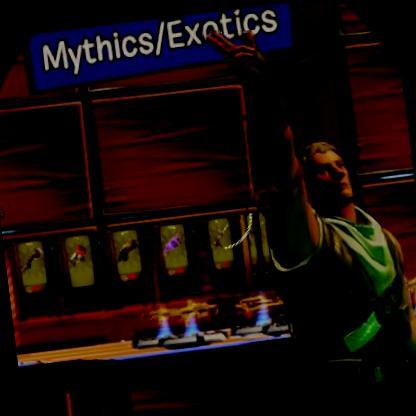person: (248, 122, 416, 384)
